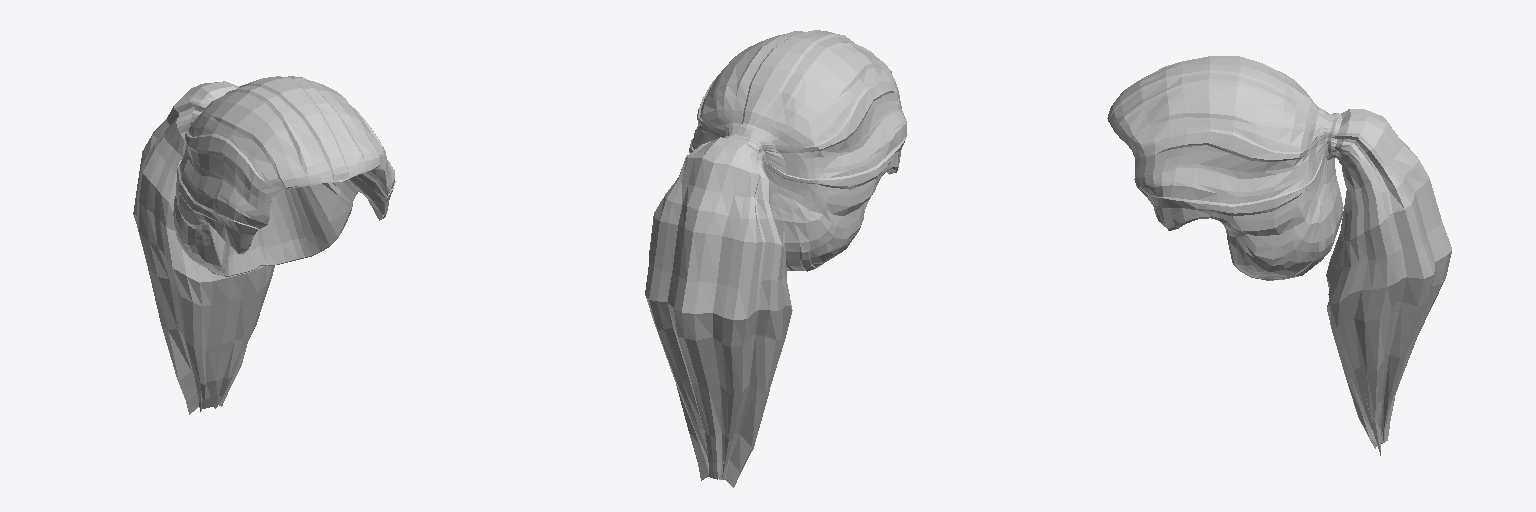
3 views of the same model, side by side, from view 1: azimuth 30°, elevation 25°; view 2: azimuth 150°, elevation 25°; view 3: azimuth 270°, elevation 25° (orthographic).
Visible parts, largest first — view 1: T7_full; view 2: T7_full; view 3: T7_full.
Part boxes in pixels (x1,y1,x2,y2): T7_full: (133,76,395,414); T7_full: (645,30,907,487); T7_full: (1107,56,1451,455).
Bounding box in the file's own units: 0.0737 × 0.1552 × 0.1265.